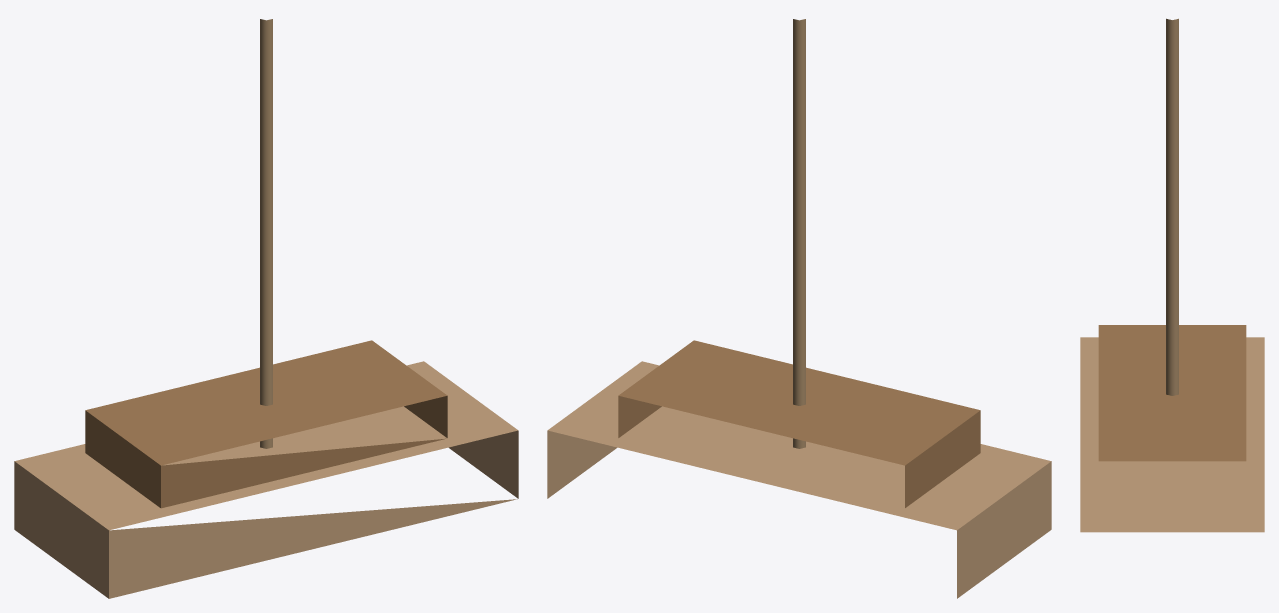
Rendered from ASTX_BOAT_FISHING.glb.
3 renders of one model, left to right at view 1: azimuth 30°, elevation 25°; view 2: azimuth 150°, elevation 25°; view 3: azimuth 270°, elevation 25°, orthographic. The views are drawn at different scales.
Parts seen in each view (by area): view 1: ASTX_BOAT_FISHING_hull, ASTX_BOAT_FISHING_gunwale, ASTX_BOAT_FISHING_mastPIVOT; view 2: ASTX_BOAT_FISHING_hull, ASTX_BOAT_FISHING_gunwale, ASTX_BOAT_FISHING_mastPIVOT; view 3: ASTX_BOAT_FISHING_gunwale, ASTX_BOAT_FISHING_hull, ASTX_BOAT_FISHING_mastPIVOT.
Boxes of the visible parts, box(x1,y1,x2,y2) form: ASTX_BOAT_FISHING_hull: box(14, 361, 518, 598); ASTX_BOAT_FISHING_gunwale: box(85, 340, 447, 508); ASTX_BOAT_FISHING_mastPIVOT: box(260, 19, 272, 448); ASTX_BOAT_FISHING_hull: box(547, 361, 1051, 598); ASTX_BOAT_FISHING_gunwale: box(618, 340, 980, 507); ASTX_BOAT_FISHING_mastPIVOT: box(793, 19, 805, 448); ASTX_BOAT_FISHING_gunwale: box(1098, 325, 1246, 461); ASTX_BOAT_FISHING_hull: box(1080, 337, 1264, 532); ASTX_BOAT_FISHING_mastPIVOT: box(1166, 18, 1178, 395).
Size of the model in its own units: 5 by 5.8 by 2.
